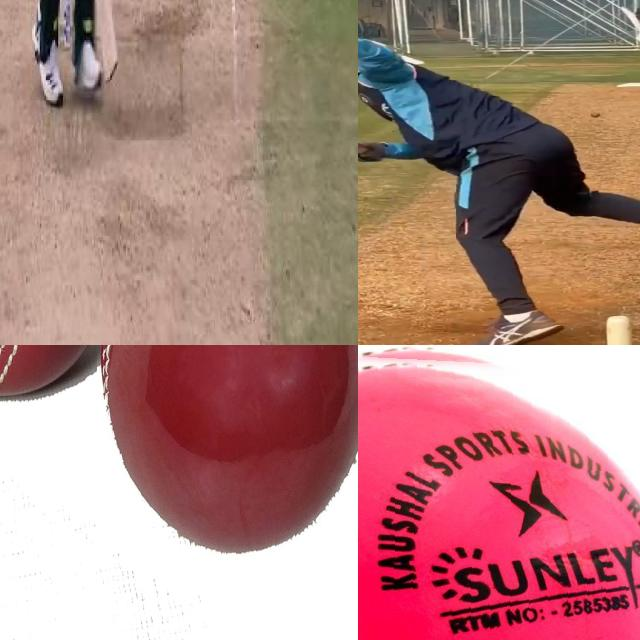Cricket ball: (358, 345, 640, 640), (96, 345, 358, 571), (590, 111, 602, 118)
